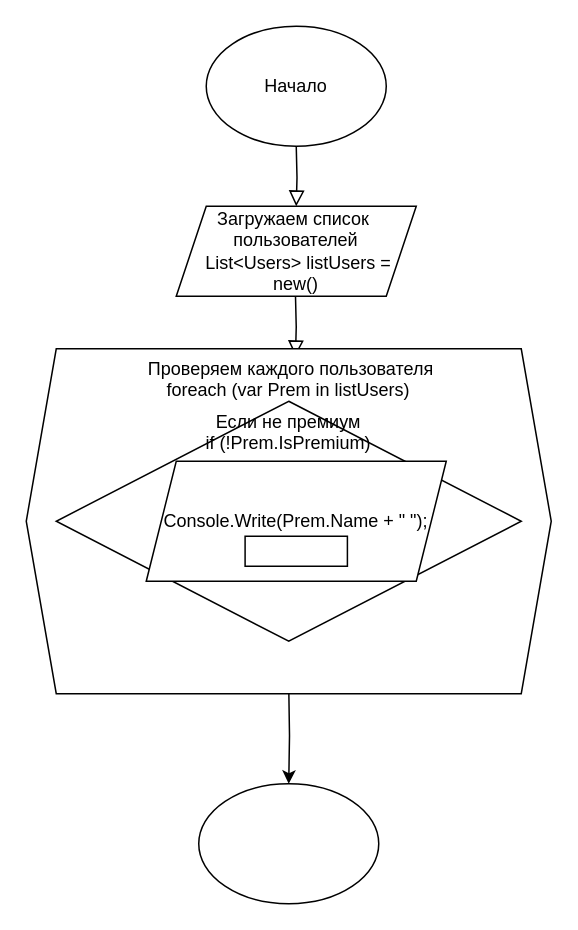
The diagram is 578 pixels wide and 930 high, and some of its shapes have lost their labels. Here are the shapes that lost their labels. From the top down, the centre of each, then its label:
pixel 295 550: ShowAds();
pixel 288 843: Конец
